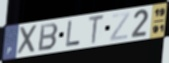2: (130, 8, 151, 40)
B: (37, 22, 60, 53)
L: (65, 19, 82, 48)
T: (88, 13, 106, 46)
X: (17, 23, 39, 57)
Z: (109, 10, 131, 42)
